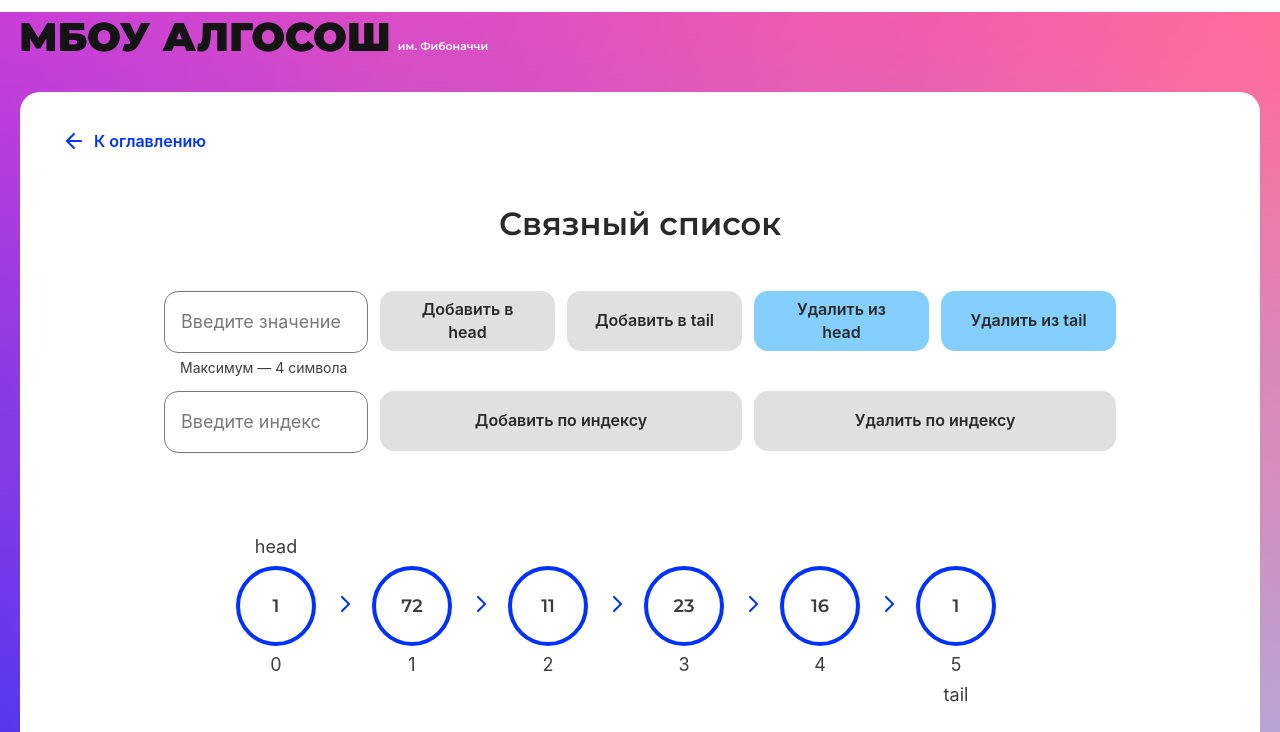
Test: list page display correctly › should delete from the head correctly
Click the button with test id "deleteFromTheHead" at [842, 321], box [754, 291, 929, 351]
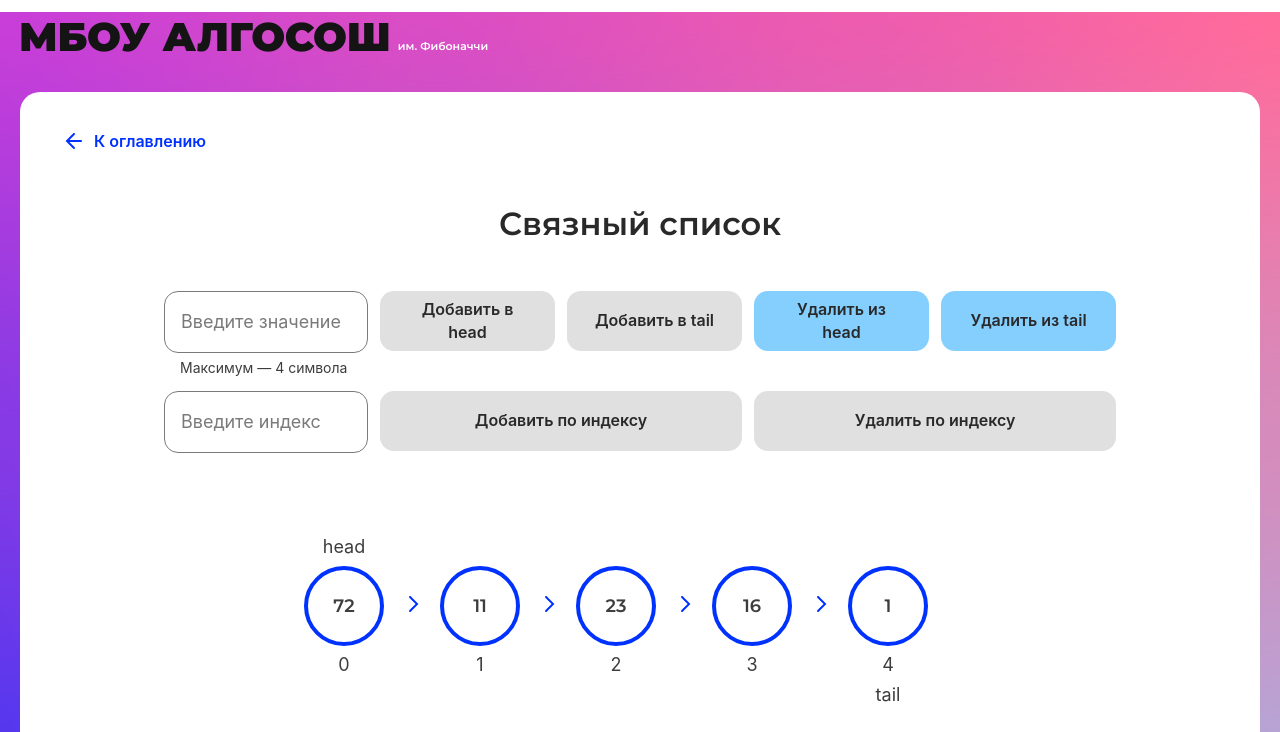
Expected: the text "head" is shown, [323, 536, 365, 558]
Result: the number of elements with test id "circle-cont" is 5 at [304, 566, 384, 646]; [440, 566, 520, 646]; [576, 566, 656, 646]; [712, 566, 792, 646]; [848, 566, 928, 646]
Result: the number of icons with test id "arrow" is 4 at [400, 592, 424, 616]; [536, 592, 560, 616]; [672, 592, 696, 616]; [808, 592, 832, 616]
